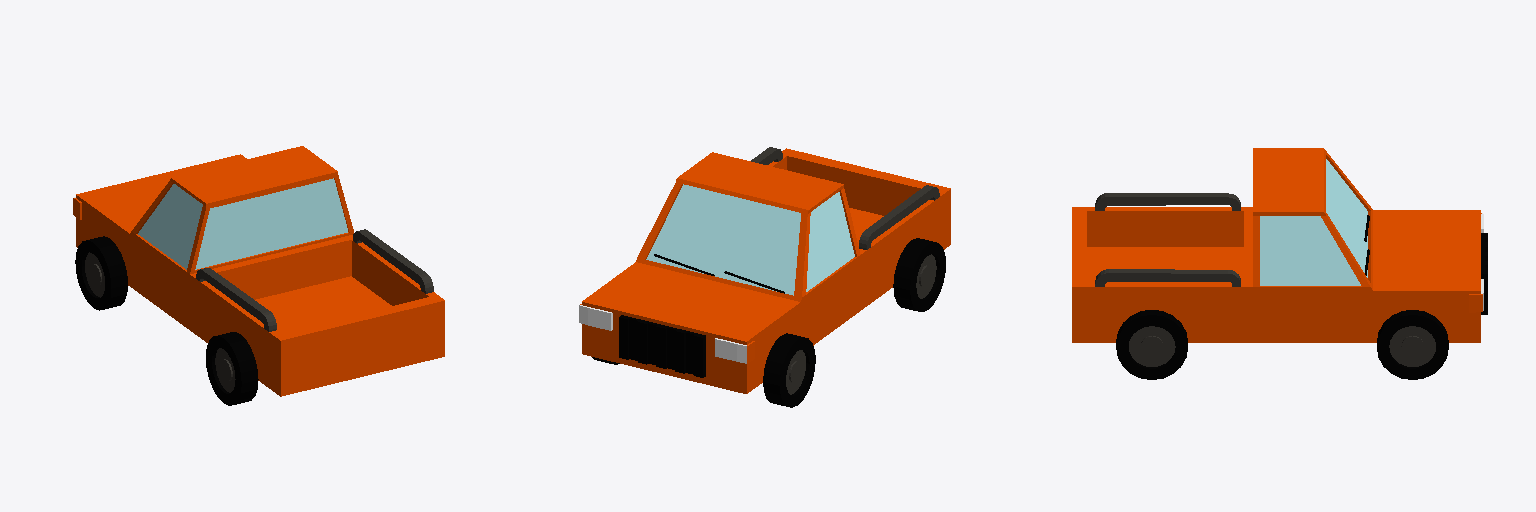
Rendered from Ute_Orange.obj.
3 views of the same model, side by side, from view 1: azimuth 30°, elevation 25°; view 2: azimuth 150°, elevation 25°; view 3: azimuth 270°, elevation 25° (orthographic).
Visible parts, largest first — view 1: Ute_Orange; view 2: Ute_Orange; view 3: Ute_Orange.
Part boxes in pixels (x1,y1,x2,y2): Ute_Orange: (73,146,444,405); Ute_Orange: (579,147,950,407); Ute_Orange: (1072,148,1487,379).
Size of the model in its own units: 172 by 132 by 322.